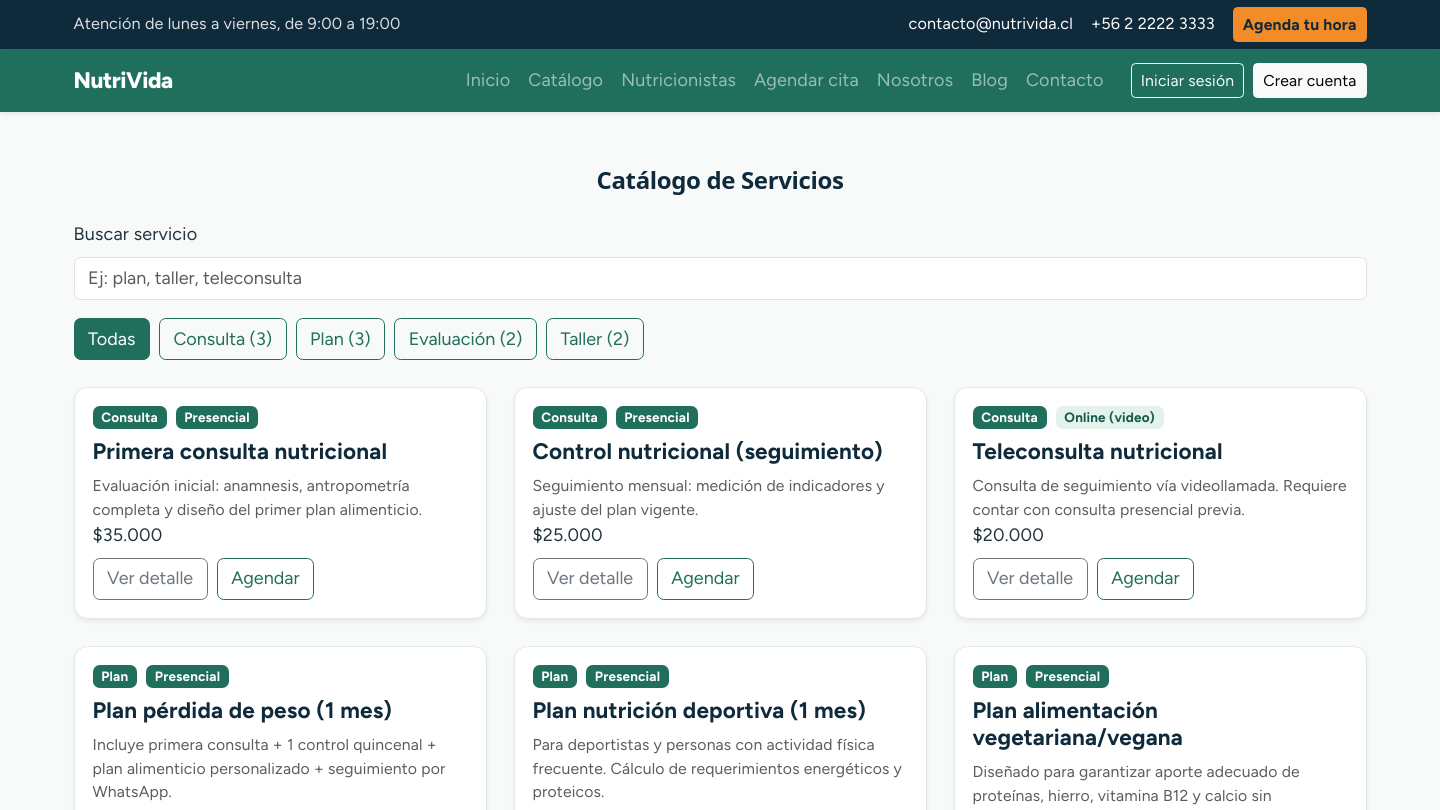
it: Catalogo › muestra un aviso si la búsqueda no encuentra nada
Type "zzzz" into the search field labelled "Buscar servicio".
click(720, 279); type("zzzz")  # box [74,257,1366,300]
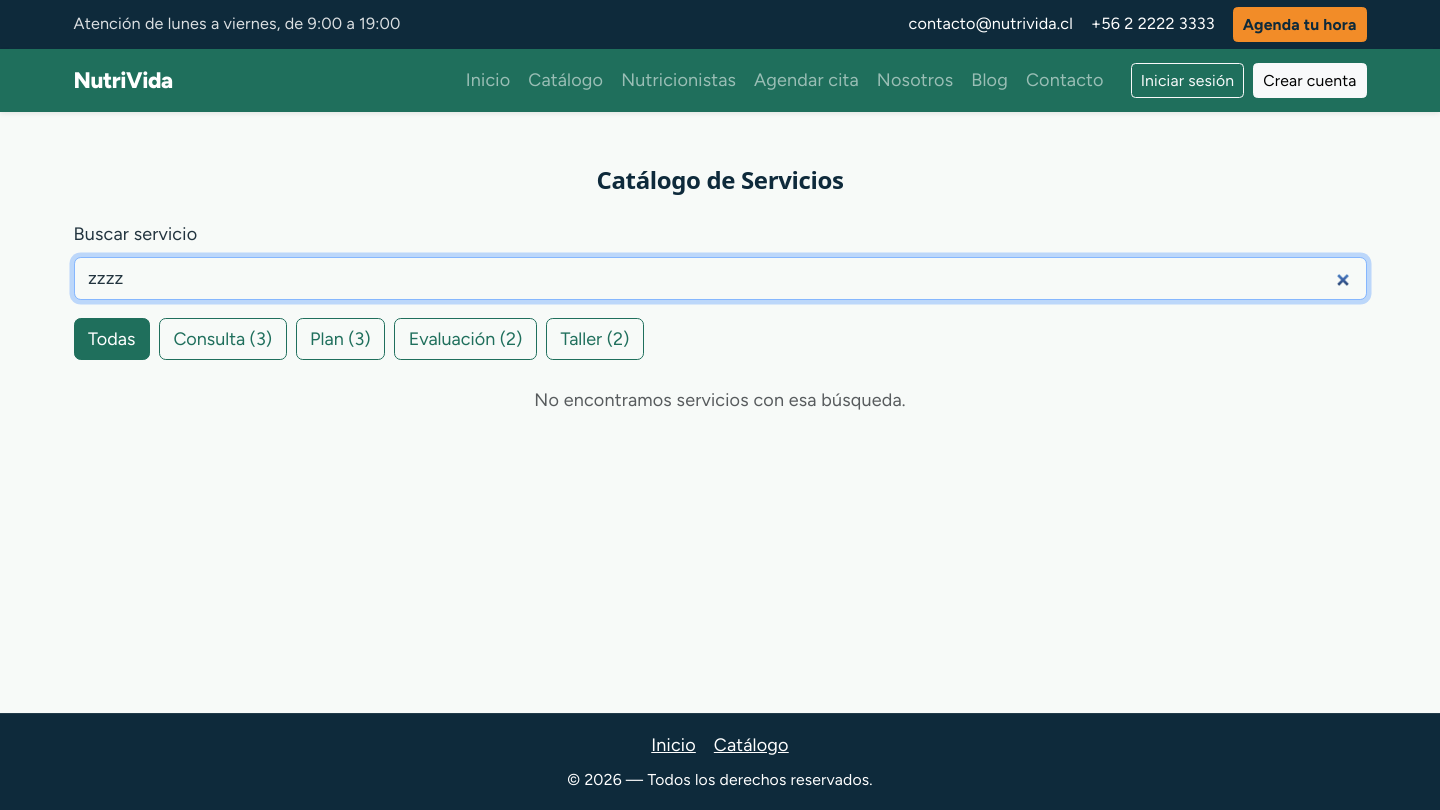
Now the text "No encontramos servicios con esa búsqueda." is shown, box [534,389,906,411]
